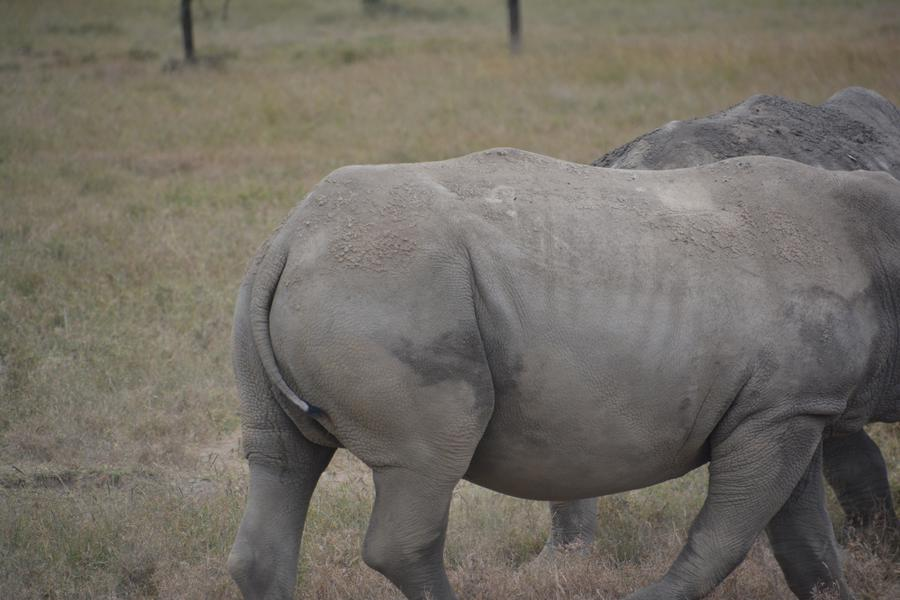rhino: (267, 152, 866, 568)
